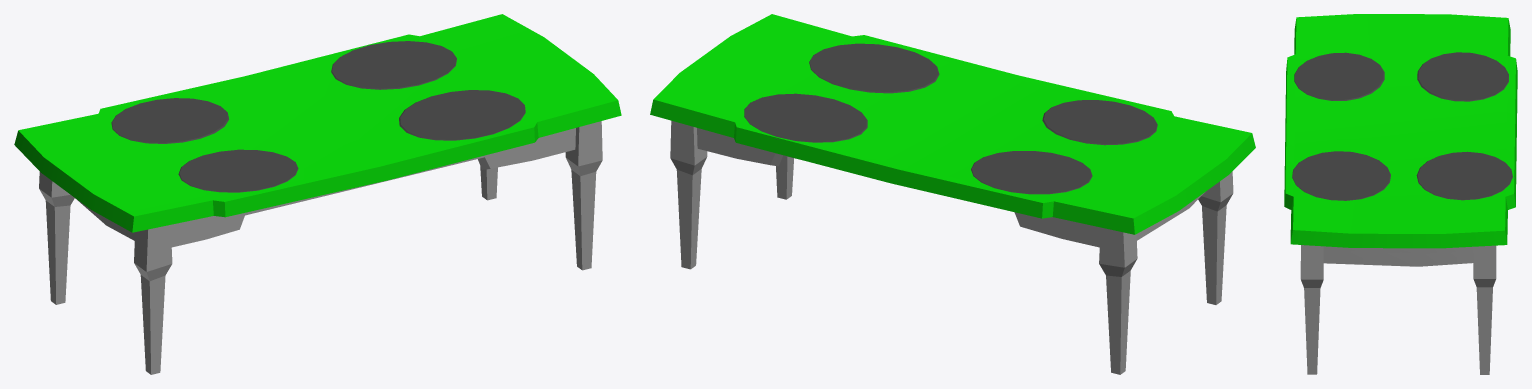
Rendered from Kitchen_Table.fbx.
The picture shows the model from 3 angles, left to right: view 1: azimuth 30°, elevation 25°; view 2: azimuth 150°, elevation 25°; view 3: azimuth 270°, elevation 25°; orthographic projection. The views are drawn at different scales.
Parts seen in each view (by area): view 1: Kitchen_Table; view 2: Kitchen_Table; view 3: Kitchen_Table.
Part boxes in pixels (x1=…): Kitchen_Table: x1=14, y1=14, x2=621, y2=374; Kitchen_Table: x1=650, y1=14, x2=1255, y2=374; Kitchen_Table: x1=1284, y1=14, x2=1517, y2=374.
Size of the model in its own units: 335 by 108 by 149.
